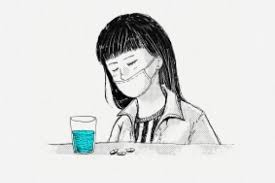flumask: (109, 72, 151, 102)
